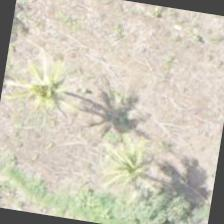Kelapa_Sawit: (86, 121, 190, 223), (0, 42, 99, 146)
